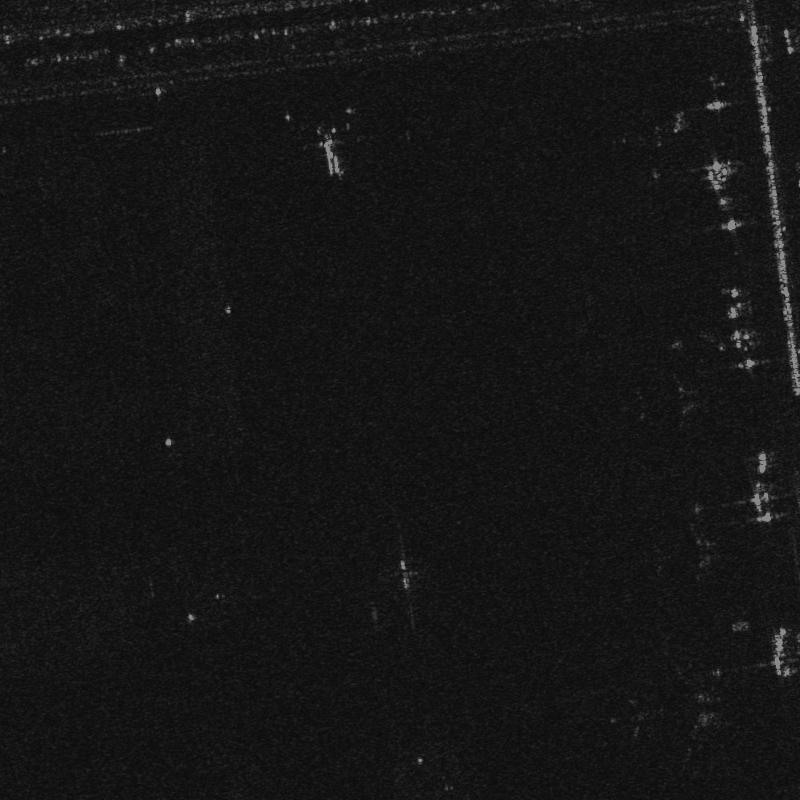Boeing787: (604, 652, 738, 777), (652, 510, 736, 582)
other: (300, 117, 352, 175)
